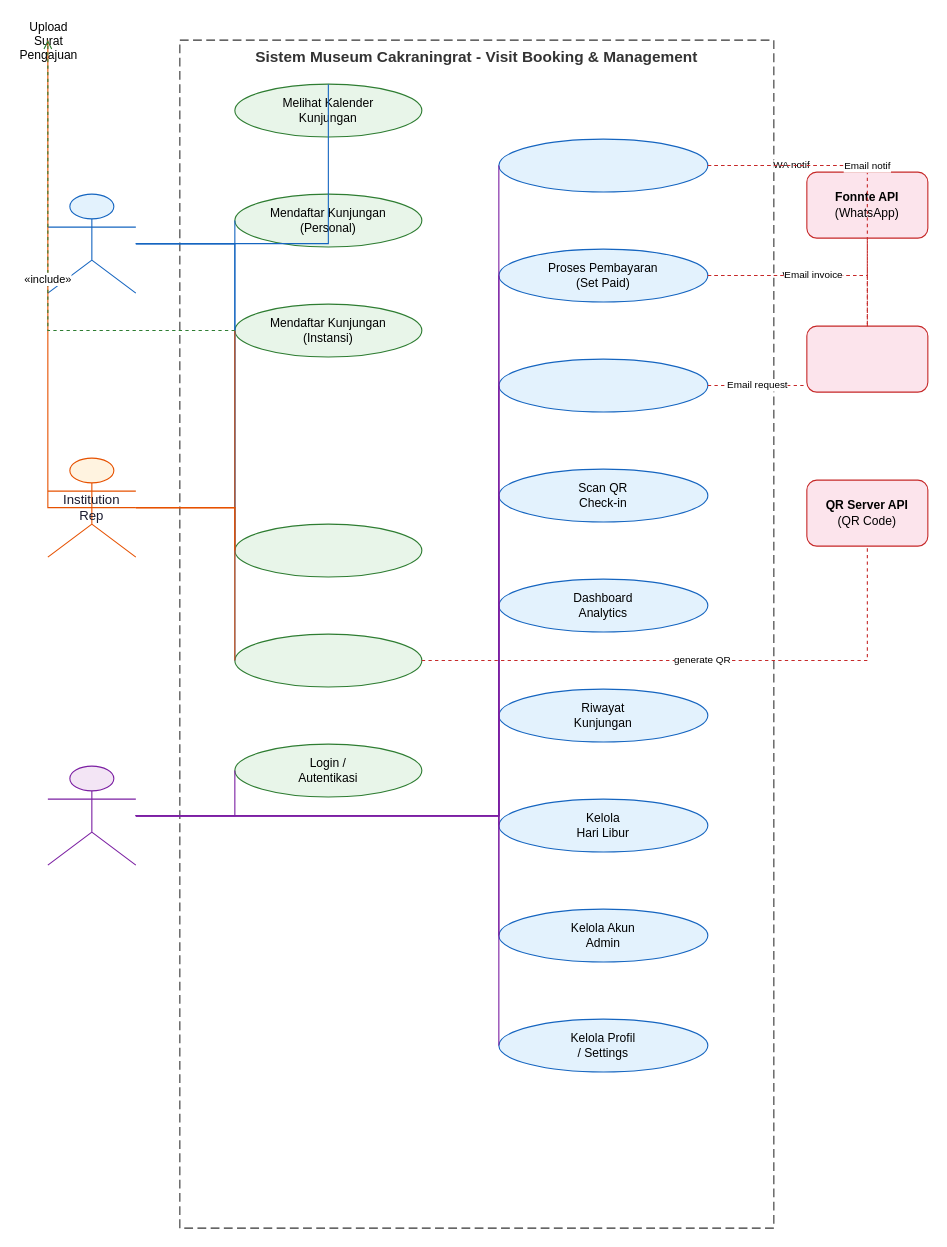
Some shapes in this 947 by 1247 pixel diagram are drawn without their labels. The centre of each missing label's shape, as x and y in pixels:
"Admin Staff (Petugas)" belongs at (91,815).
"Approve / Reject Pendaftaran" belongs at (603,165).
"Gmail SMTP (Email)" belongs at (867,358).
"Lihat Status Pembayaran" belongs at (328,550).
"Lihat Tanda Terima & QR Code" belongs at (328,660).
"Minta Pembayaran ke Visitor" belongs at (603,385).
"Visitor (Pengunjung)" belongs at (91,243).
